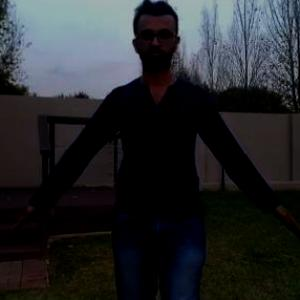land: (17, 4, 296, 299)
